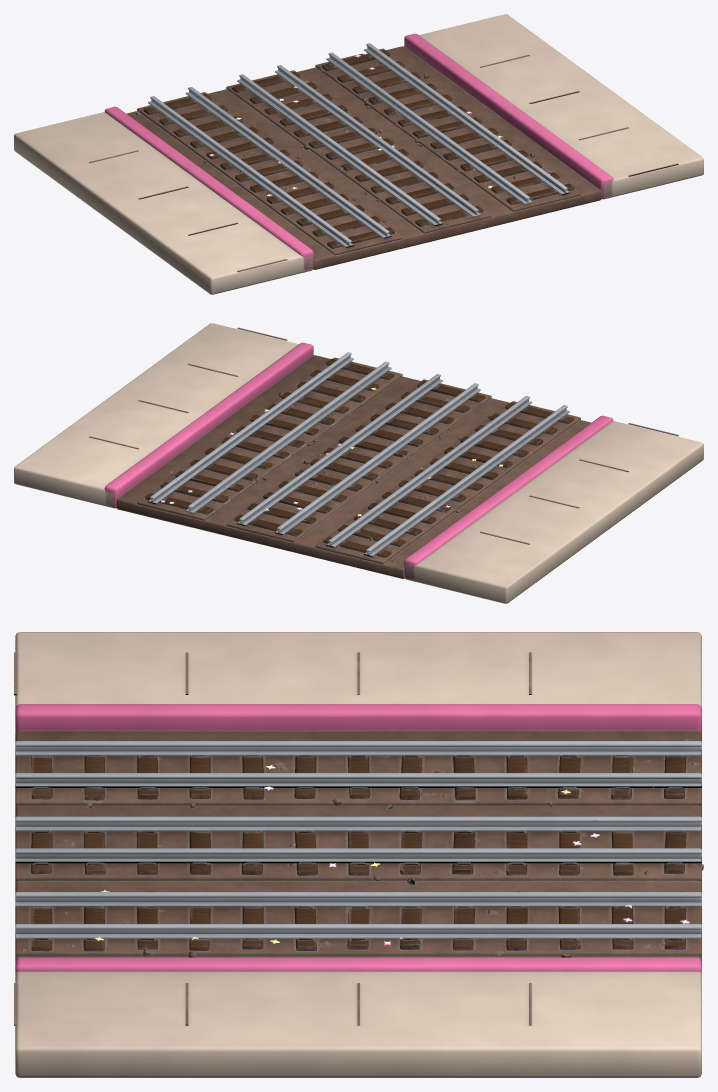
The model's file is rc_track_segment.glb.
The picture shows the model from 3 angles, top to bottom: view 1: azimuth 30°, elevation 25°; view 2: azimuth 150°, elevation 25°; view 3: azimuth 270°, elevation 25°; orthographic projection. The views are drawn at different scales.
Visible parts, largest first — view 1: rc_track_segment; view 2: rc_track_segment; view 3: rc_track_segment.
Part boxes in pixels (box(x1,y1,x2,y2)): rc_track_segment: box(14, 14, 703, 294); rc_track_segment: box(14, 323, 703, 603); rc_track_segment: box(14, 632, 703, 1077).
Bounding box in the file's own units: 14.4 × 0.5925 × 10.05.
Materials: 8 (8 with a texture image).
